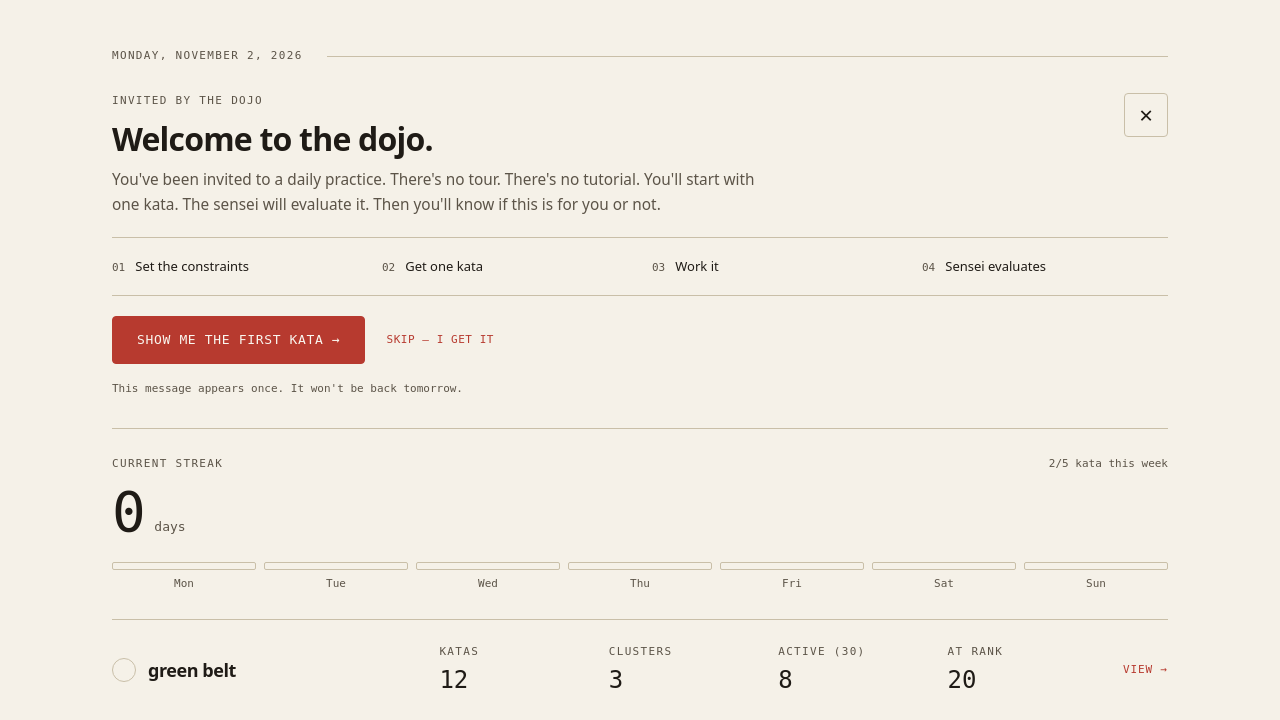
Test case: DashboardPage › first-visit onboarding › sits in the page, with the first kata section back once dismissed for good
Check: the heading "Welcome to the dojo." is shown, box [112,121,433,156]
Check: the button "enter the dojo" is not shown
Click the button "Skip — I get it". click: (440, 340)
box: [386,316,495,364]
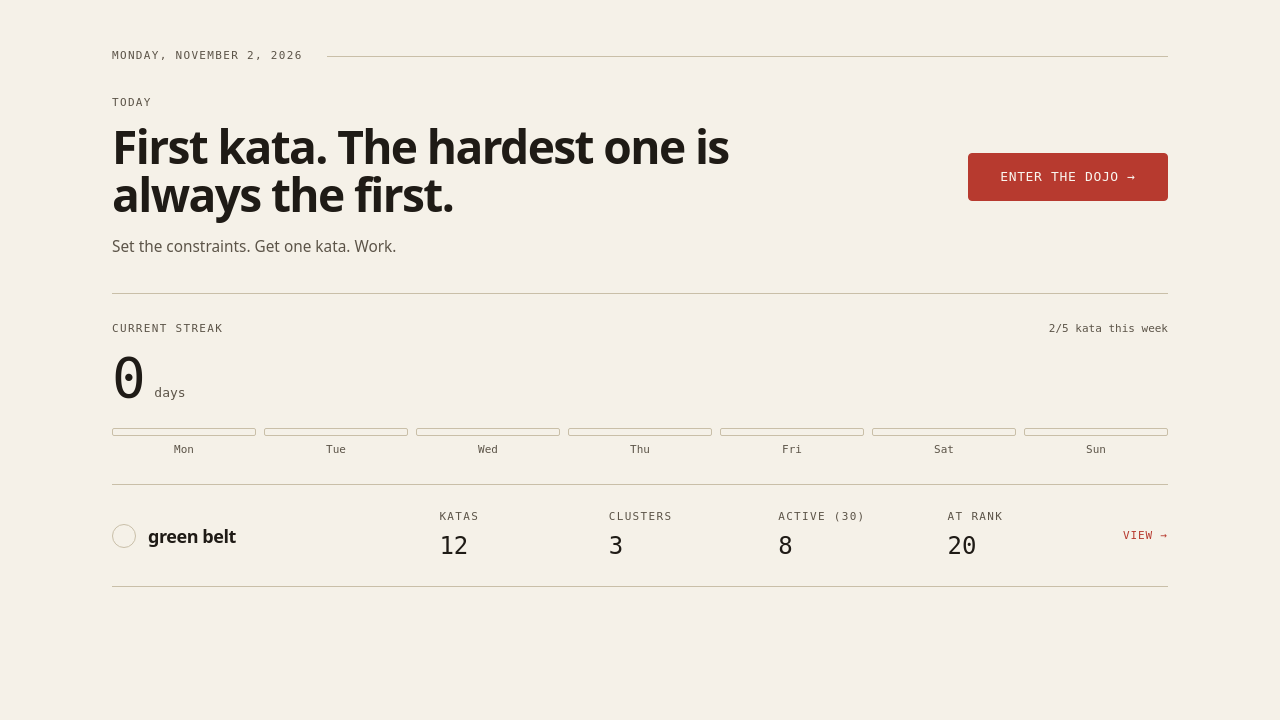
Check: the heading "First kata. The hardest one is always the first." is shown, box [112,123,762,219]
